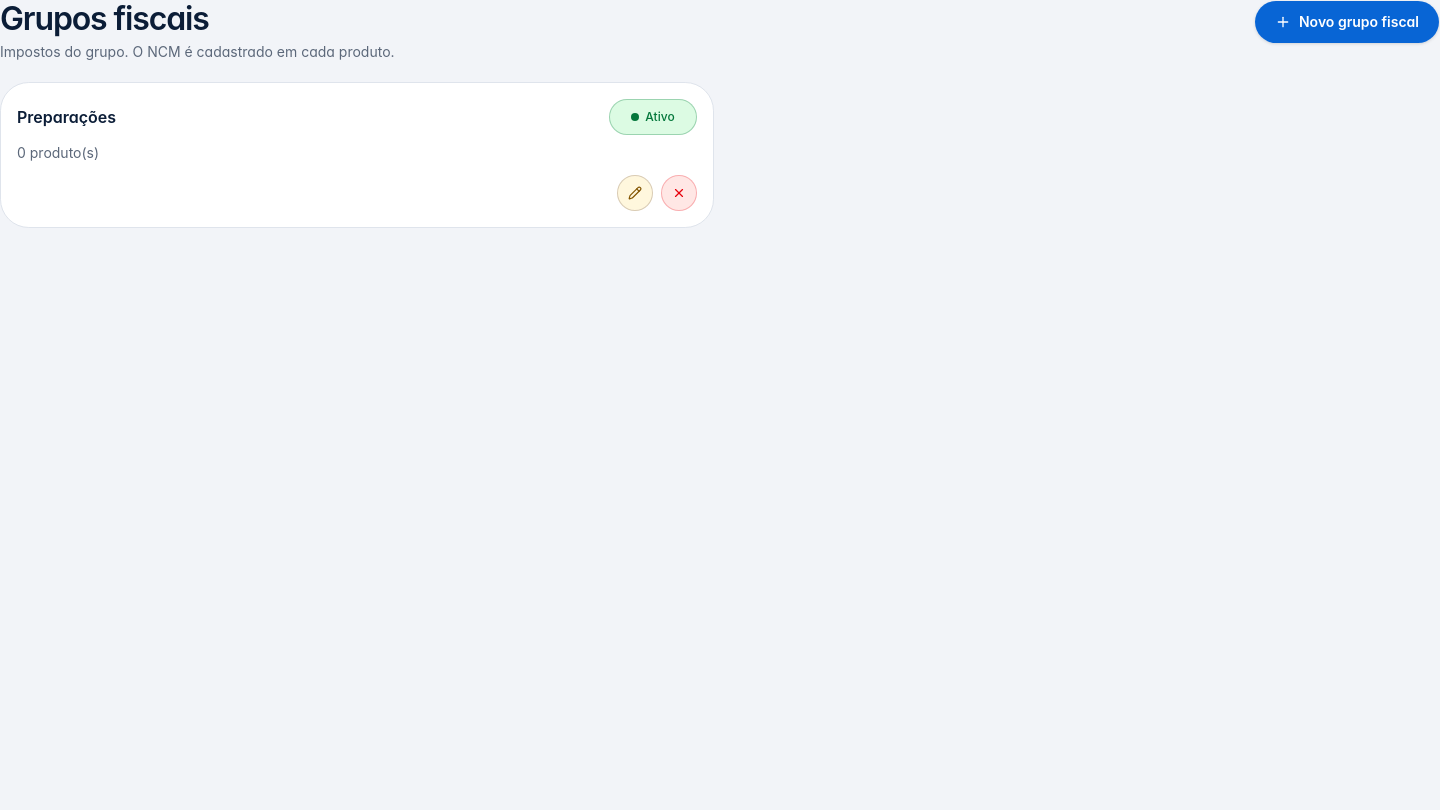
grupo usa o editor anterior com impostos, sem NCM nem GTIN
What coordinates should you click on to do the following:
click the button named "Editar Preparações"
I would click on:
 (635, 193)
Its box is [617,175,653,211].
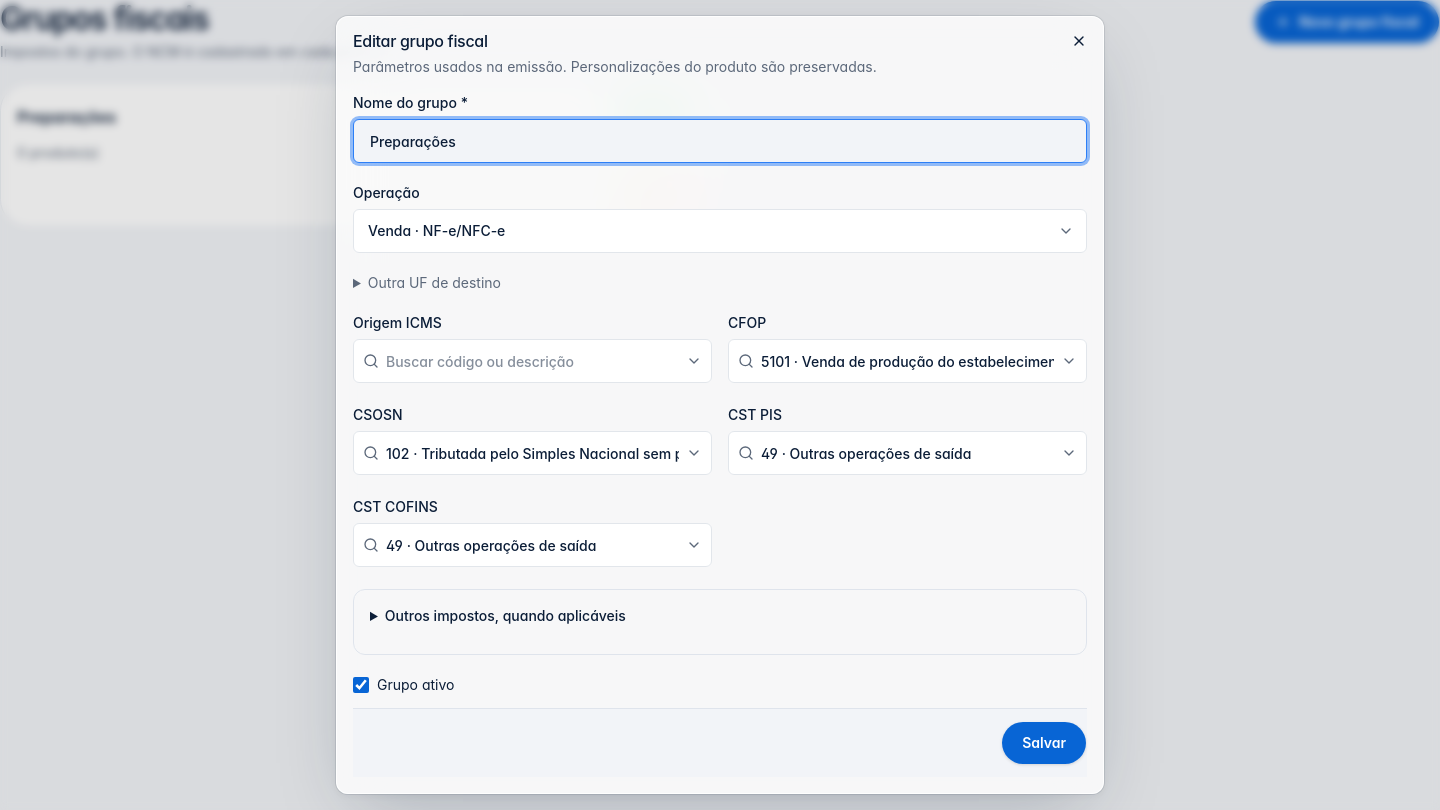
Expected: the dialog is shown, [336,16,1104,794]
Expected: the dropdown named "Origem ICMS" is shown, [353,339,712,383]
Expected: the dropdown named "CFOP" is shown, [728,339,1087,383]
